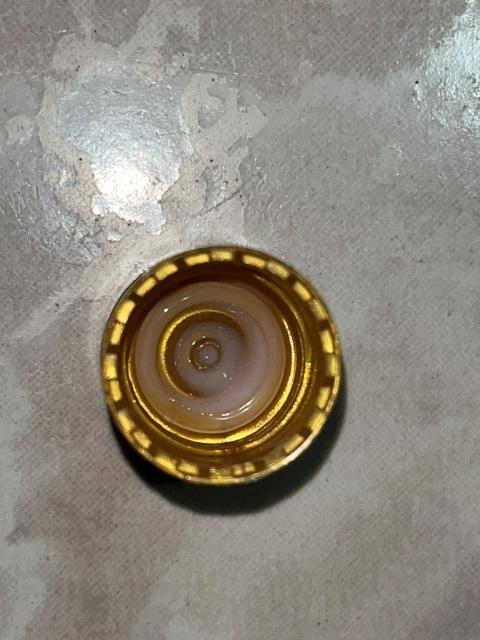HDPE: (58, 202, 393, 538)
